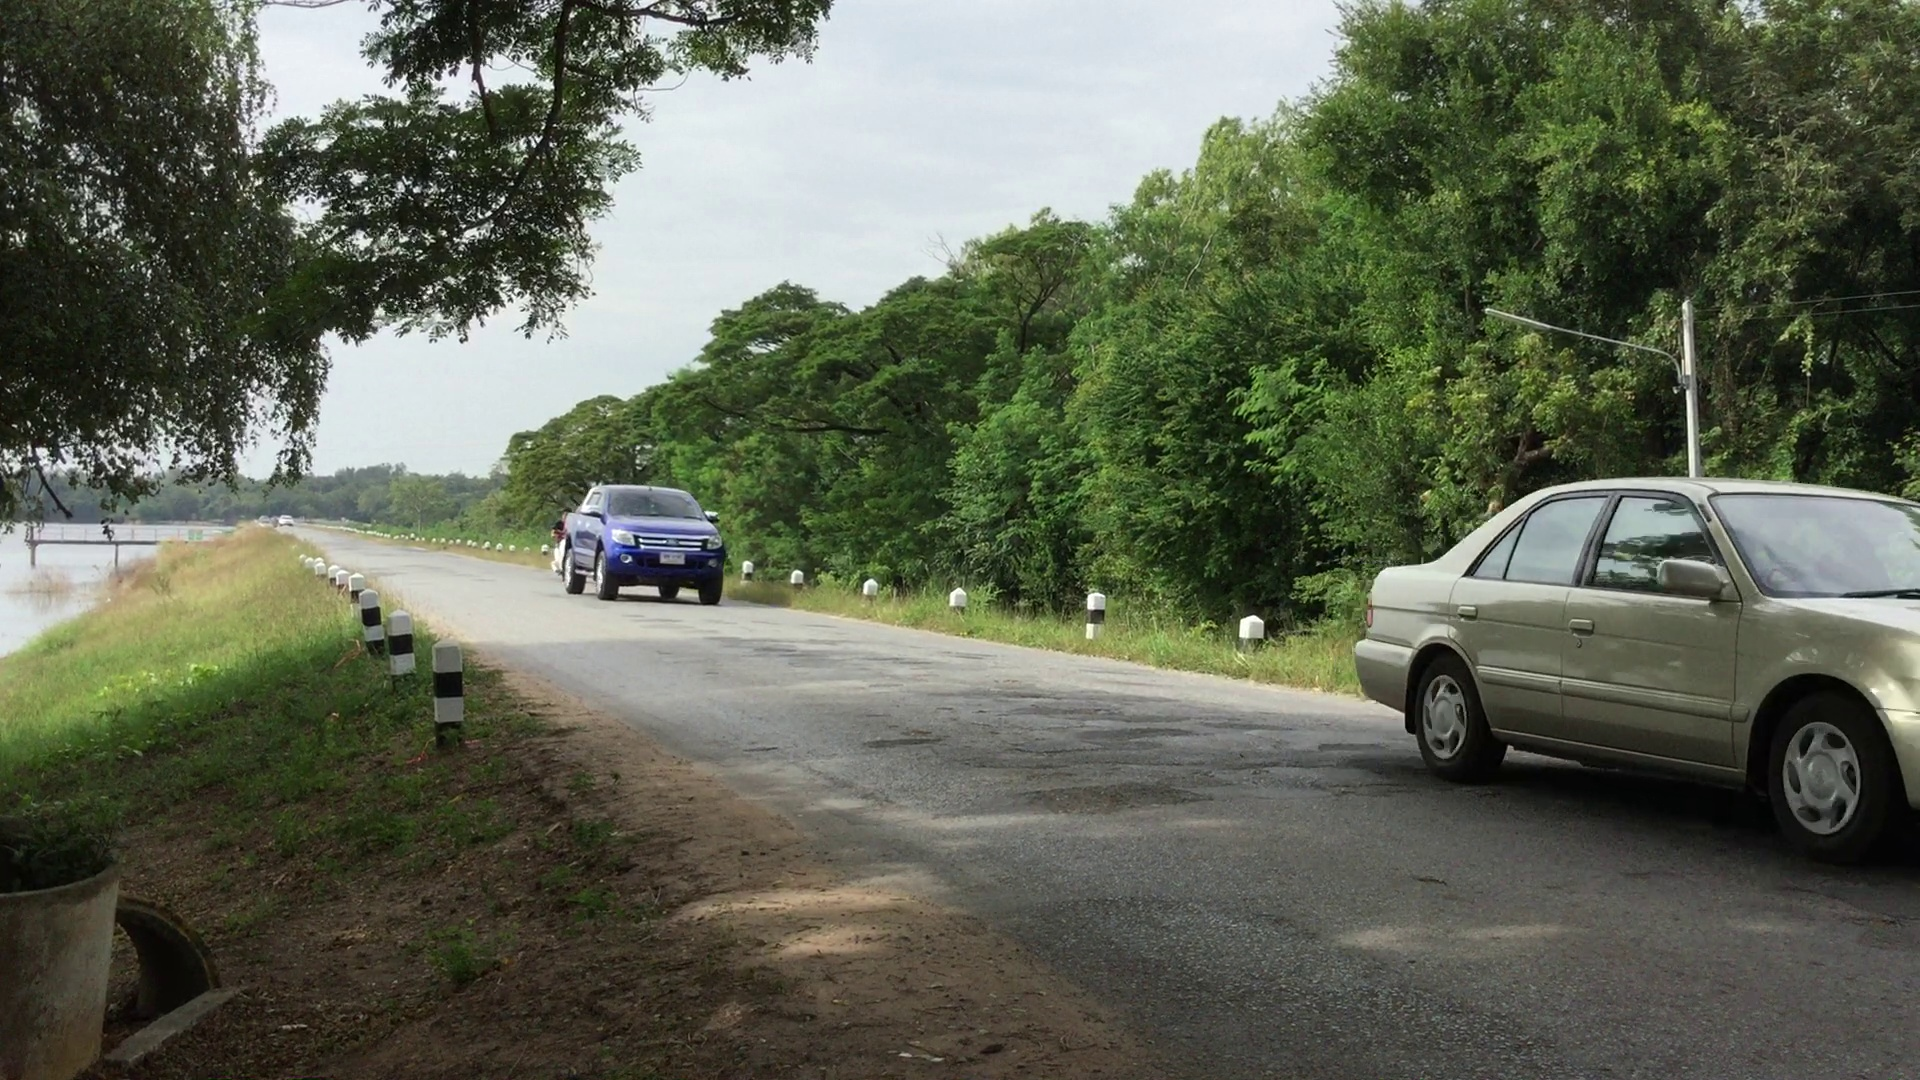car: (1352, 469, 1917, 829), (558, 487, 723, 603)
